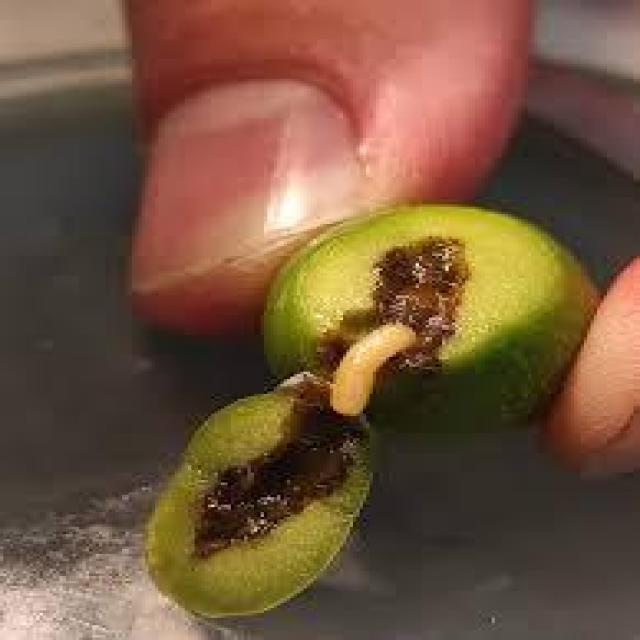Olive Fruit Fly: (148, 204, 597, 618)
